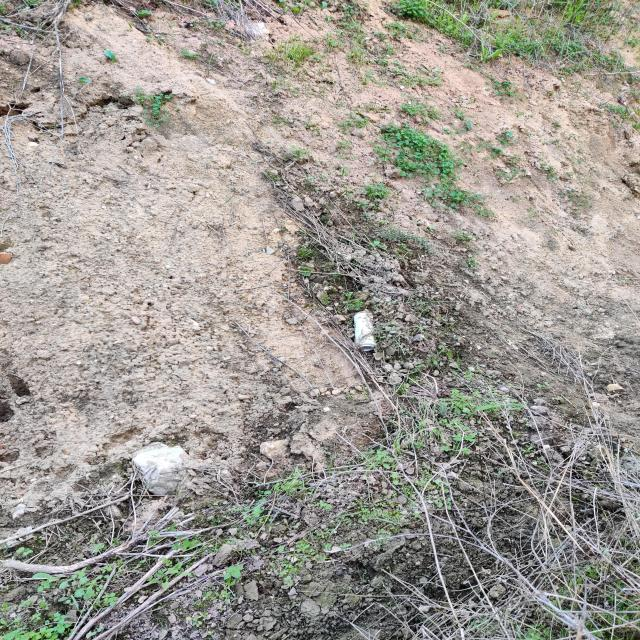litter: (352, 311, 375, 351)
